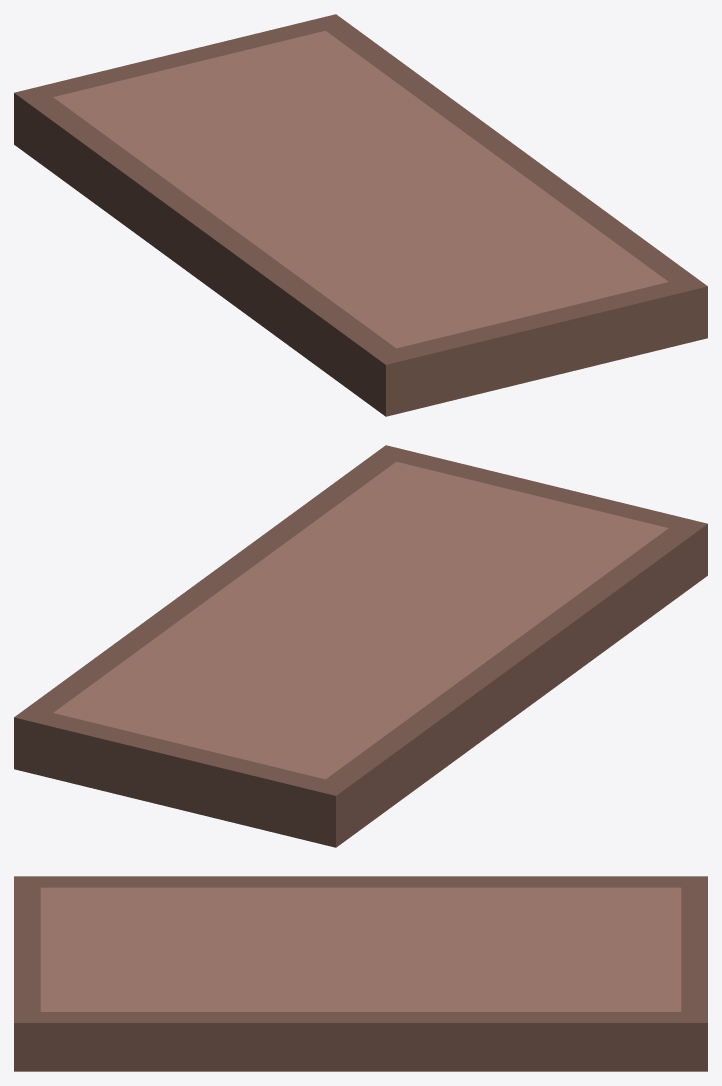
The model's file is alfombra_pequena_deshilachada_01.glb.
3 renders of one model, top to bottom at view 1: azimuth 30°, elevation 25°; view 2: azimuth 150°, elevation 25°; view 3: azimuth 270°, elevation 25°, orthographic. The views are drawn at different scales.
Visible parts, largest first — view 1: alfombra_pequena_deshilachada; view 2: alfombra_pequena_deshilachada; view 3: alfombra_pequena_deshilachada.
Boxes of the visible parts, x1,y1,x2,y2 form: alfombra_pequena_deshilachada: (14,14,707,416); alfombra_pequena_deshilachada: (14,445,707,847); alfombra_pequena_deshilachada: (14,876,707,1071).
Size of the model in its own units: 1 by 0.1538 by 2.
